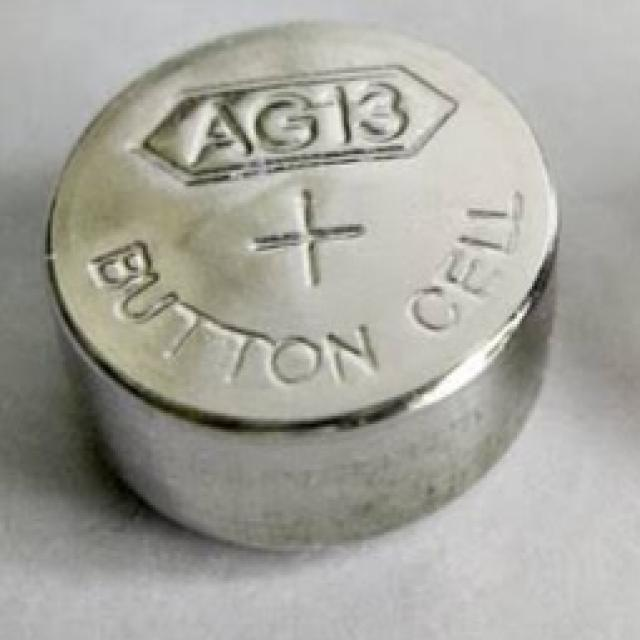battery: (32, 0, 640, 572)
